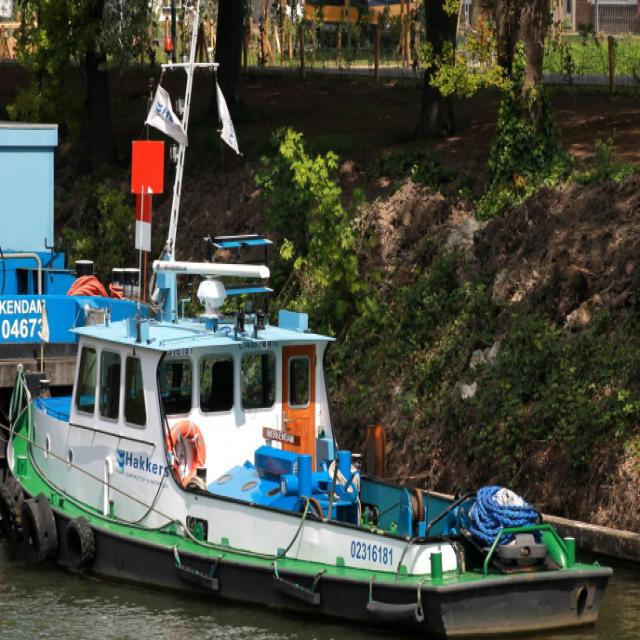tugboat: (1, 249, 617, 640)
